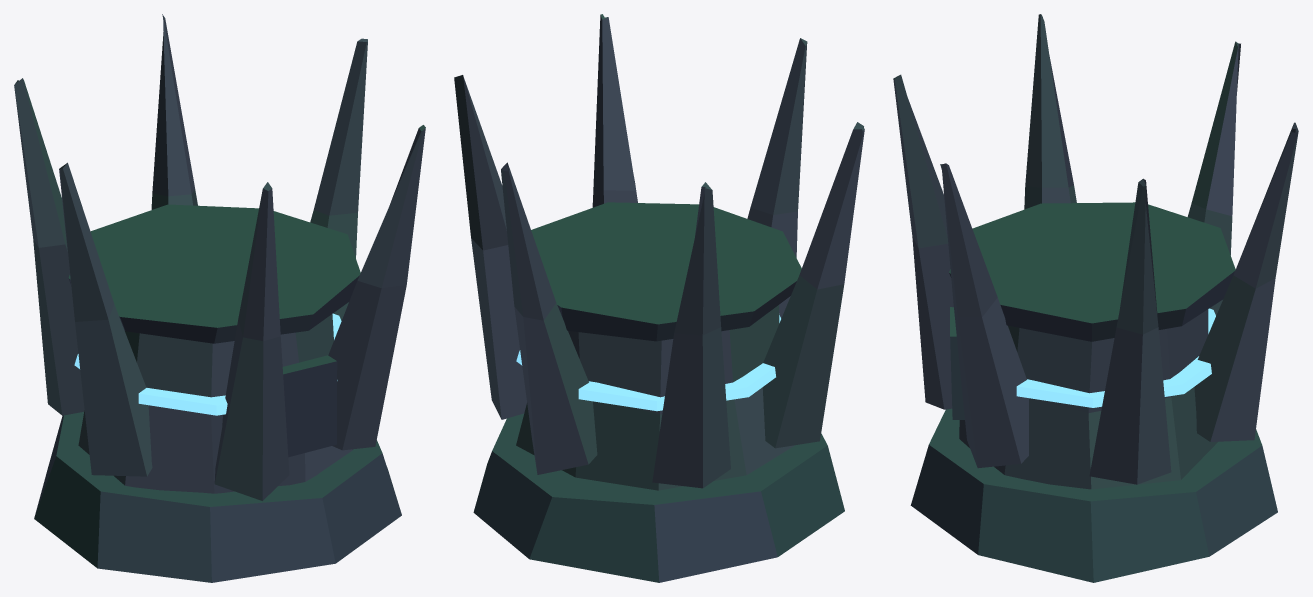
Rendered from skill_rock_4.glb.
3 views of the same model, side by side, from view 1: azimuth 30°, elevation 25°; view 2: azimuth 150°, elevation 25°; view 3: azimuth 270°, elevation 25° (orthographic).
Parts seen in each view (by area): view 1: skill_rock_4; view 2: skill_rock_4; view 3: skill_rock_4.
Boxes of the visible parts, x1,y1,x2,y2 form: skill_rock_4: (14, 14, 425, 582); skill_rock_4: (454, 14, 864, 582); skill_rock_4: (893, 14, 1298, 582).
Bounding box in the file's own units: 2.95 × 3.21 × 2.91.
